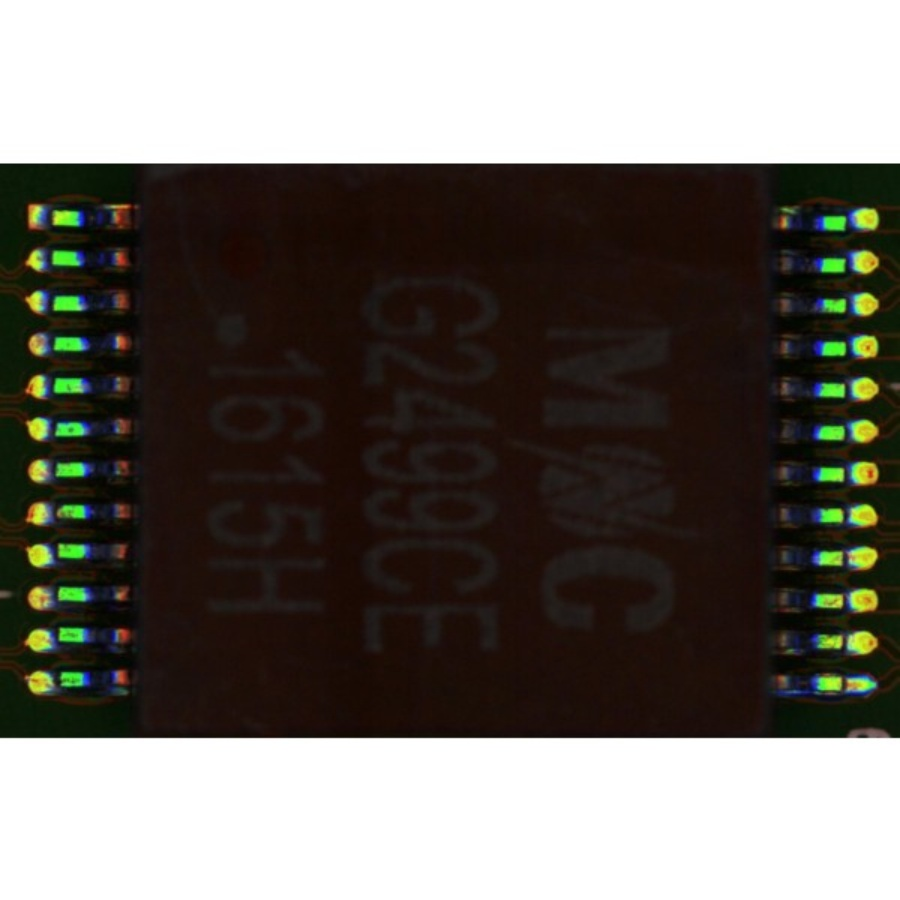Bad_podu: (827, 680, 863, 690)
